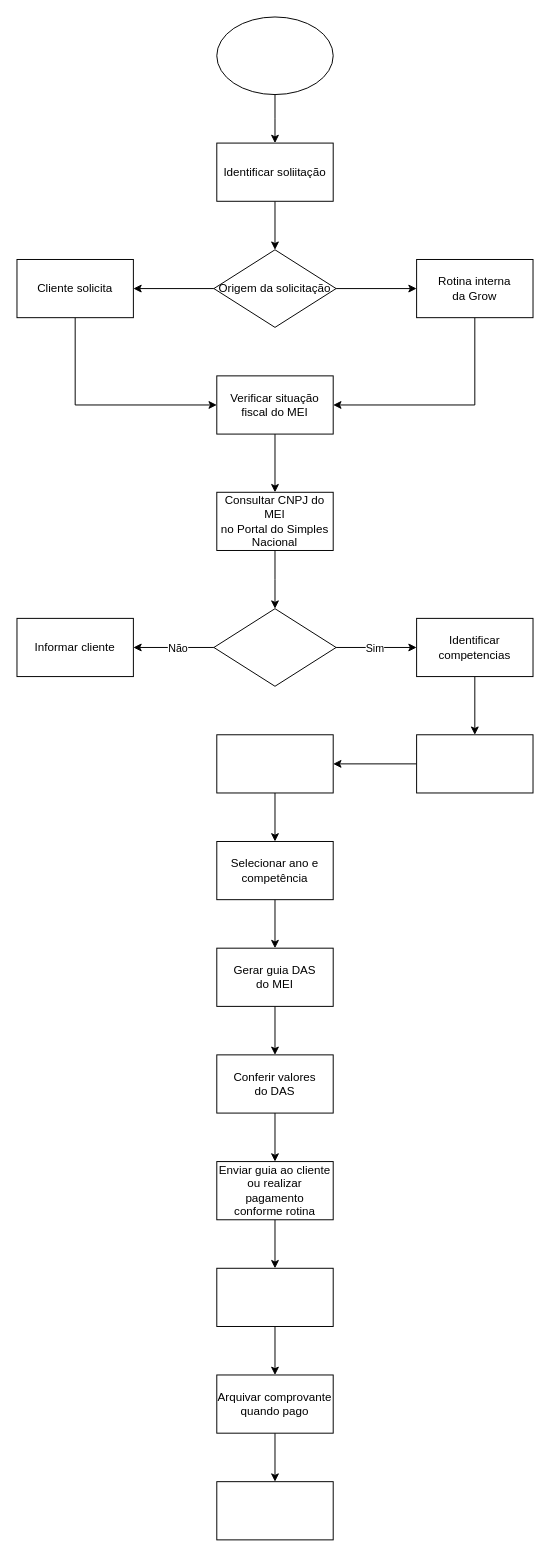
The diagram is 550 pixels wide and 1557 high, and some of its shapes have lost their labels. The centre of each missing label's shape, as x and y in pixels:
"Acessar sistema PGMEI" belongs at point (274, 763).
"Existem DAS em aberto?" belongs at point (274, 647).
"Fim" belongs at point (274, 1510).
"inicio" belongs at point (274, 55).
"Registrar emissão no controle interno" belongs at point (274, 1296).
"Verificar período a ser pago" belongs at point (474, 763).
